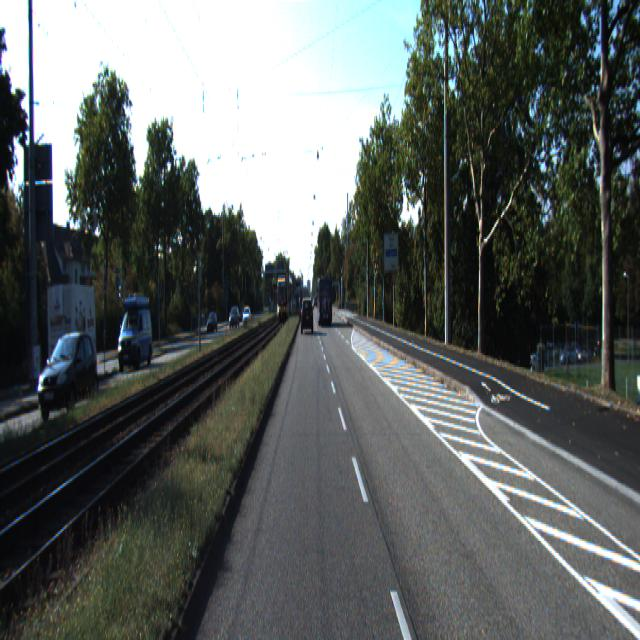Car: (47, 274, 99, 398), (36, 325, 104, 419), (116, 304, 154, 374), (316, 275, 333, 324), (301, 298, 313, 334)
